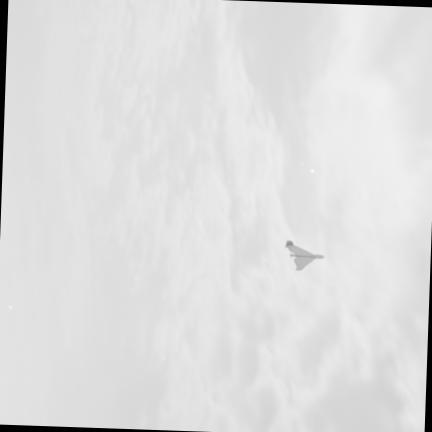Shahed: (285, 241, 323, 270)
